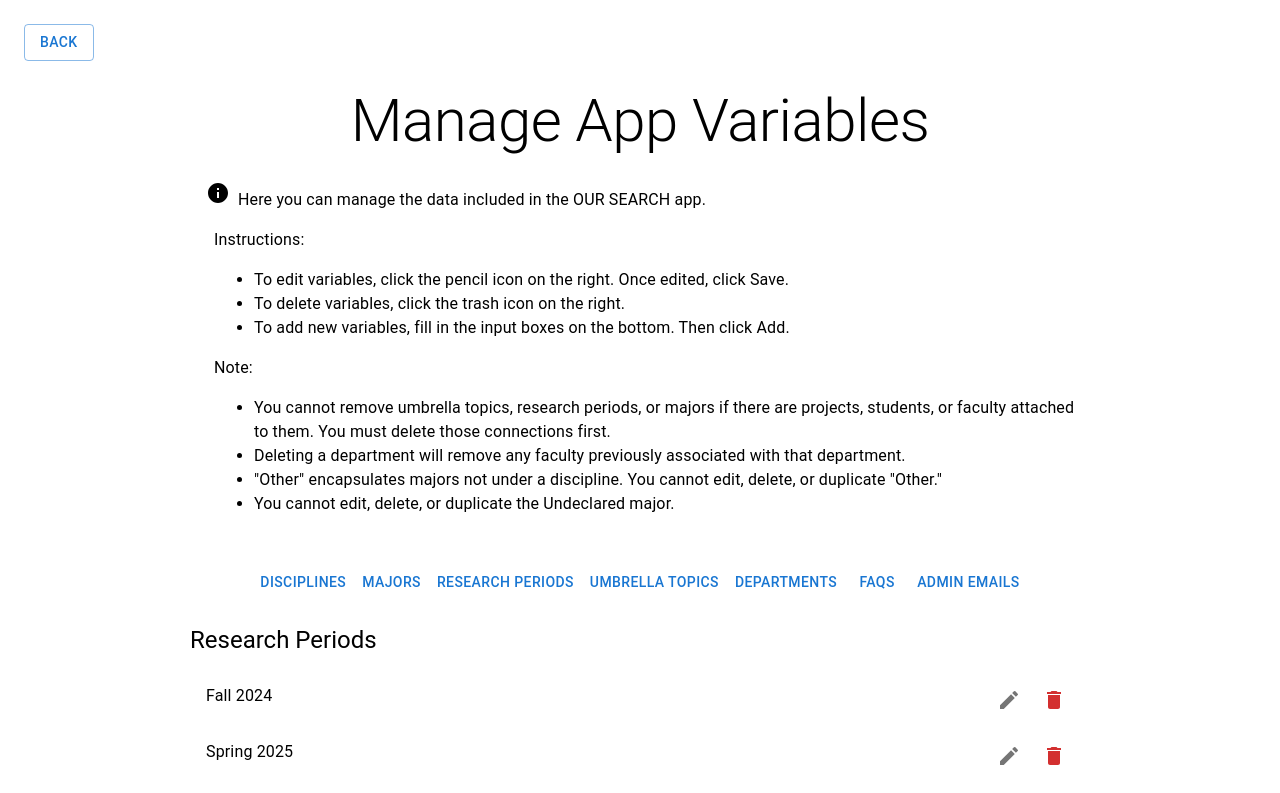
Test case: ManageVariables › handling research periods › editing › shows edit button; shows save button after clicking edit
Click the 1st button with test id "edit-period-btn" at [1009, 700], box x1=989 y1=680 x2=1029 y2=720
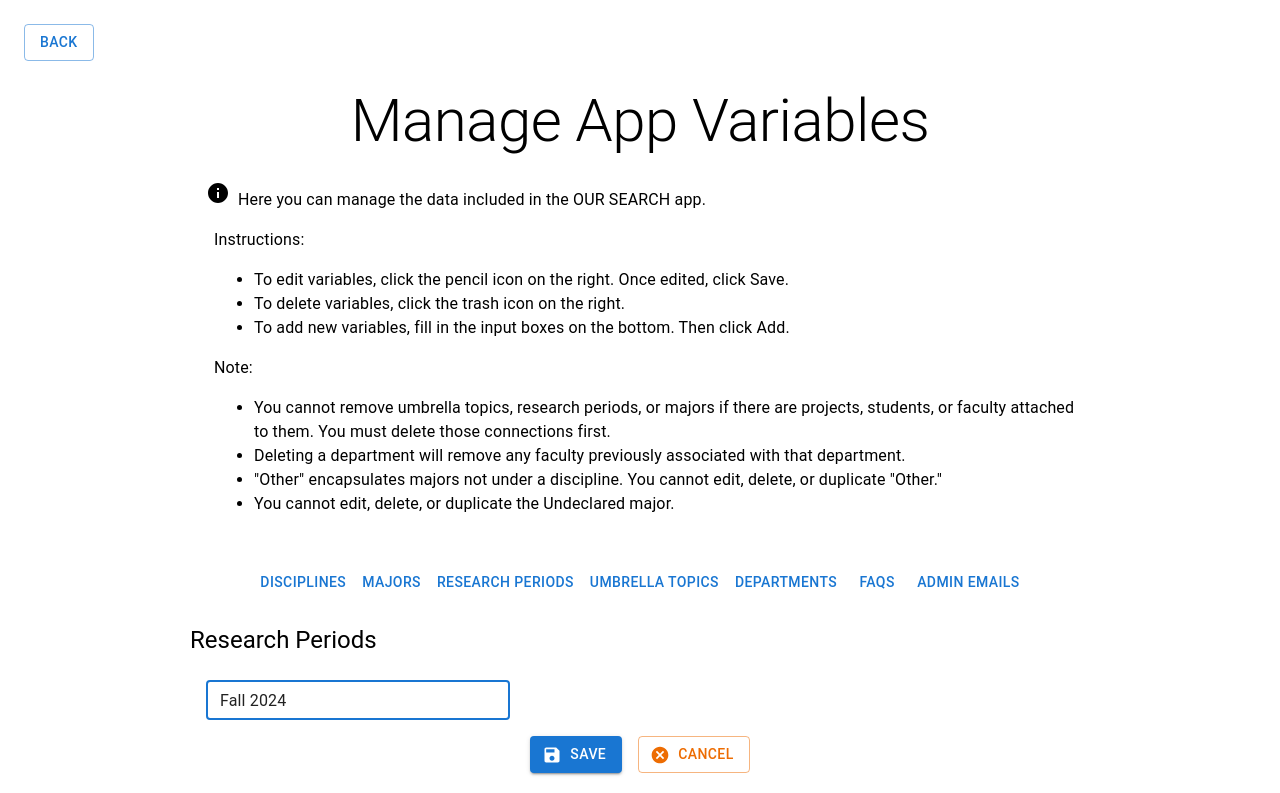
Expected: the button with test id "save-period-btn" is shown, x1=530 y1=736 x2=622 y2=773
